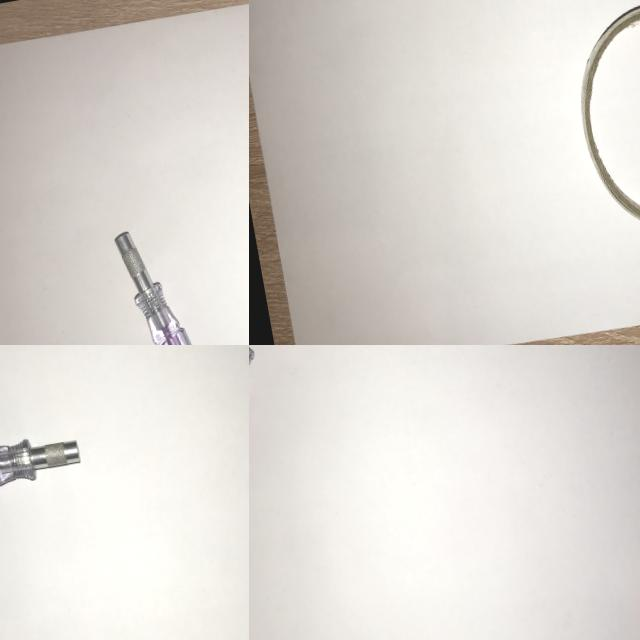scotch: (556, 0, 640, 249)
screwdriver: (104, 208, 234, 345), (0, 414, 97, 516), (249, 345, 303, 512)
